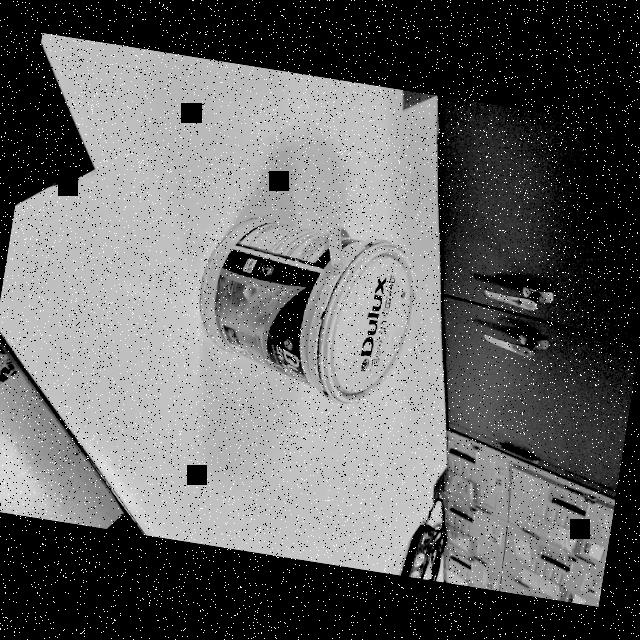paint_bucket: (172, 199, 428, 412)
